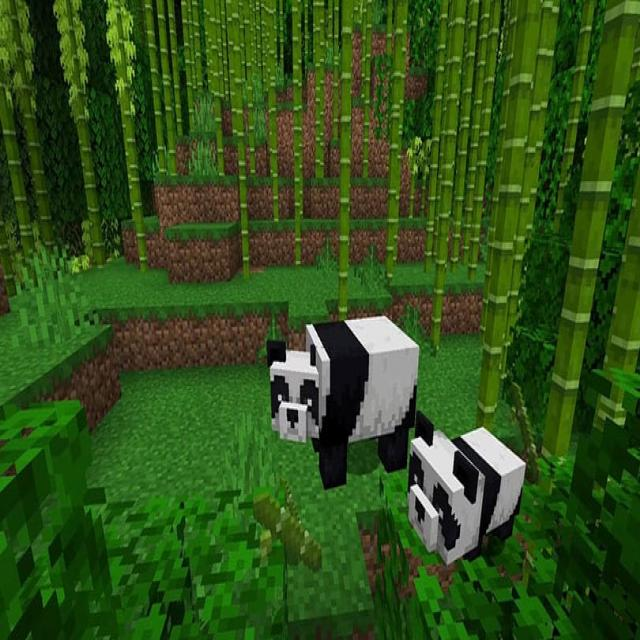Panda: (265, 311, 420, 492), (406, 409, 528, 564)
